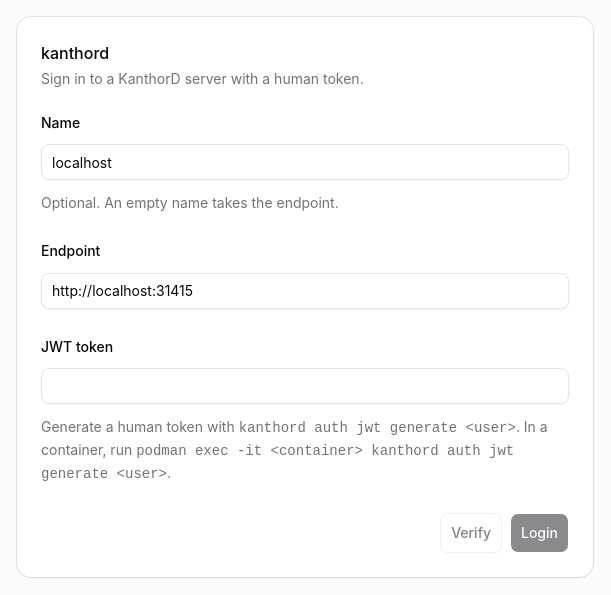
Test case: LoginScreen › disables Verify and Login until the endpoint and the token are filled
Check: the button "Verify" is disabled, box [440,513,502,553]
Check: the button "Login" is disabled, box [510,513,569,553]
Type "jwt-1" into the password field labelled "JWT token" at (305, 386), box [41,368,569,404]
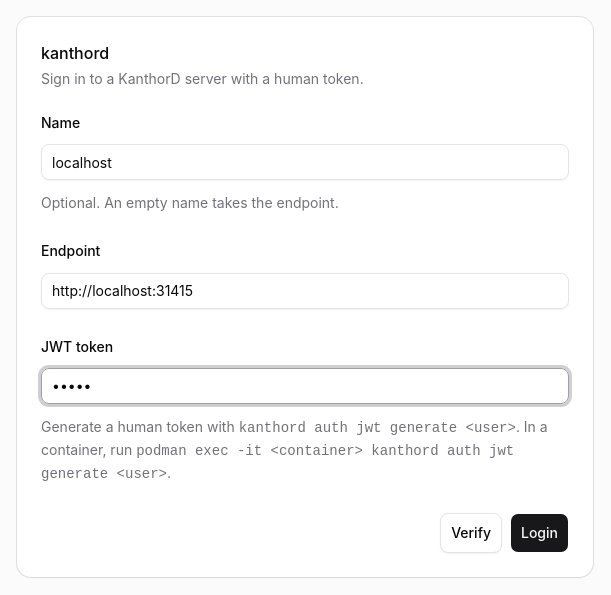
Check: the button "Verify" is enabled, box [440,513,502,553]
Check: the button "Login" is enabled, box [510,513,569,553]
Clear the field labelled "Endpoint" at (305, 290), box [41,272,569,308]
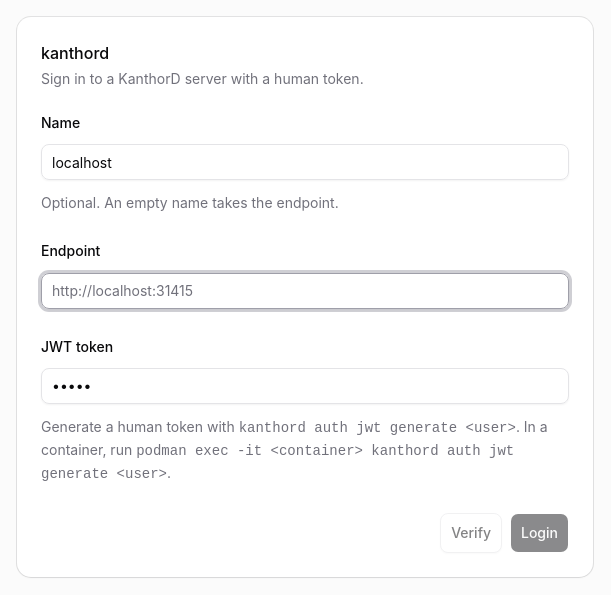
Check: the button "Verify" is disabled, box [440,513,502,553]
Check: the button "Login" is disabled, box [510,513,569,553]
